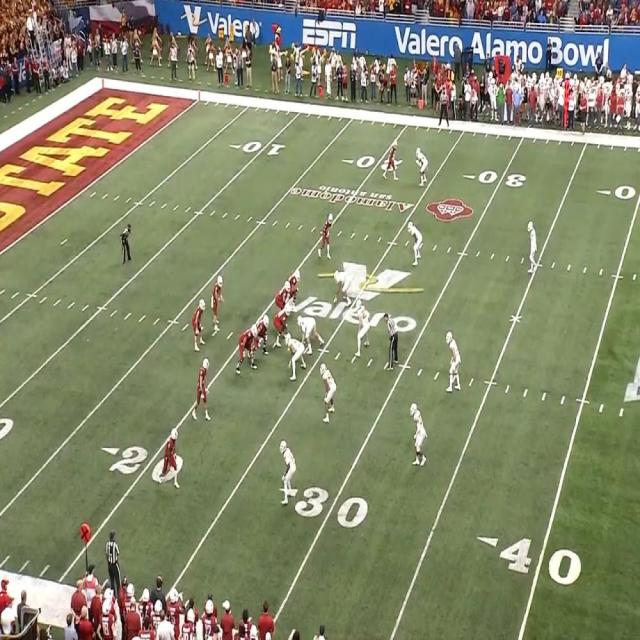center: (273, 306, 289, 345)
db: (407, 402, 427, 466), (278, 441, 294, 502), (410, 151, 428, 188), (526, 220, 538, 274), (448, 331, 458, 393)
lb: (320, 362, 335, 421), (353, 300, 369, 352), (406, 222, 424, 264)
qb: (212, 275, 224, 329)
